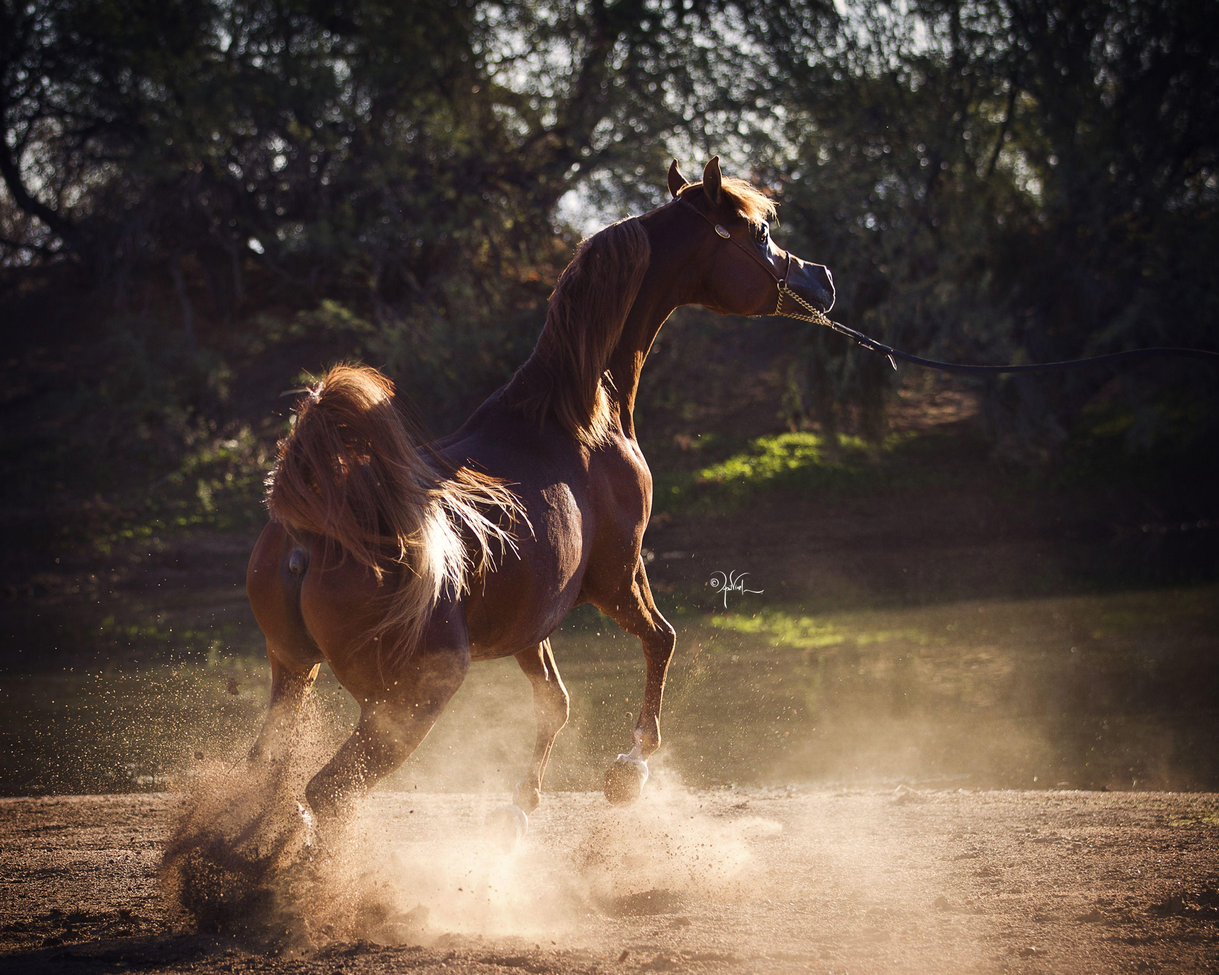horse: (234, 154, 835, 877)
